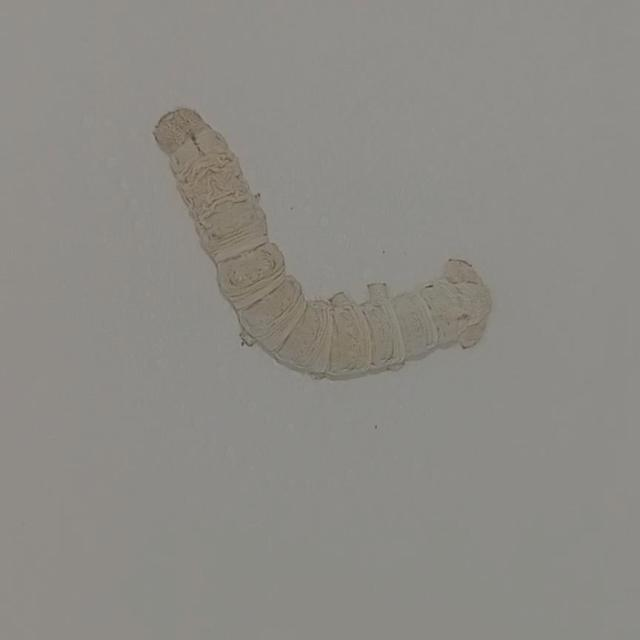Healthy: (139, 97, 505, 389)
